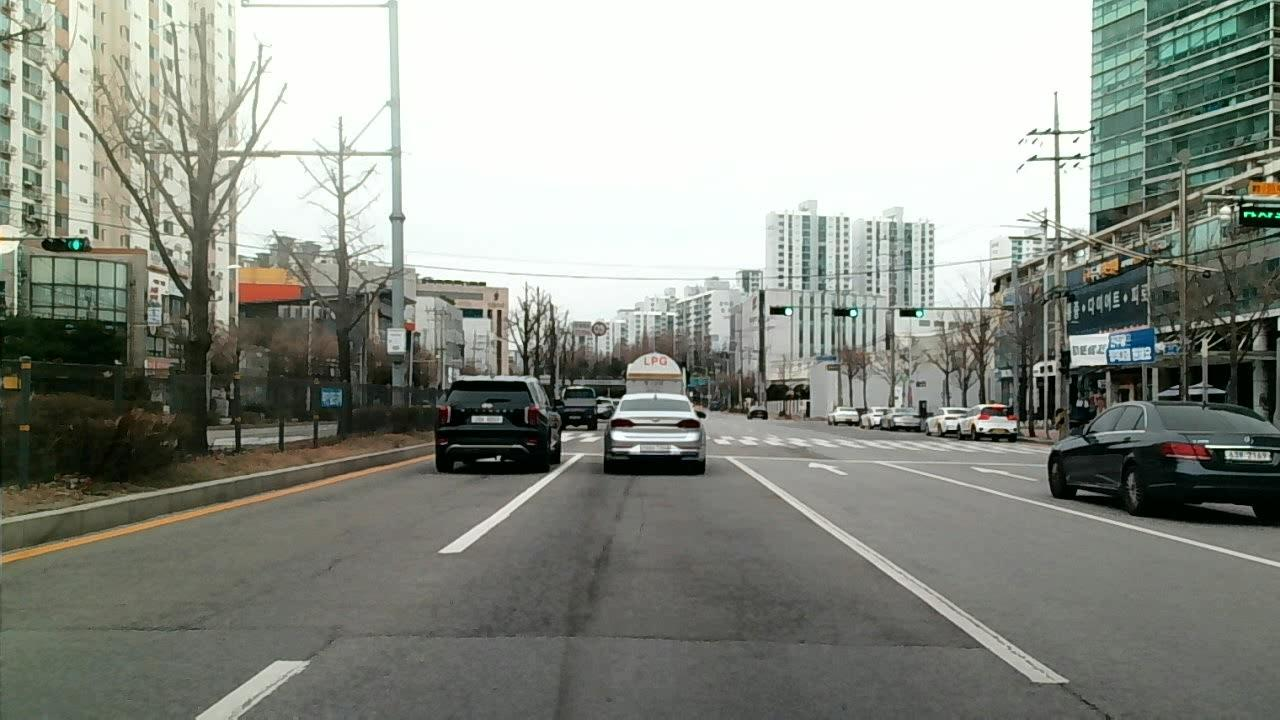hcrack: (340, 626, 983, 651), (11, 618, 238, 635)
vcrack: (1002, 638, 1114, 718), (233, 644, 320, 720), (887, 560, 979, 626), (308, 553, 354, 587)
